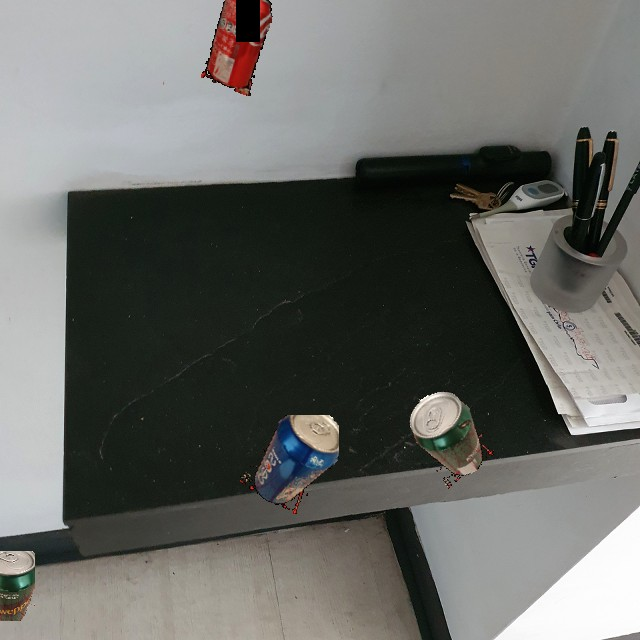coca cola: (200, 0, 277, 97)
pepsi: (240, 415, 339, 514)
schweppes: (399, 381, 500, 489), (0, 551, 35, 621)
